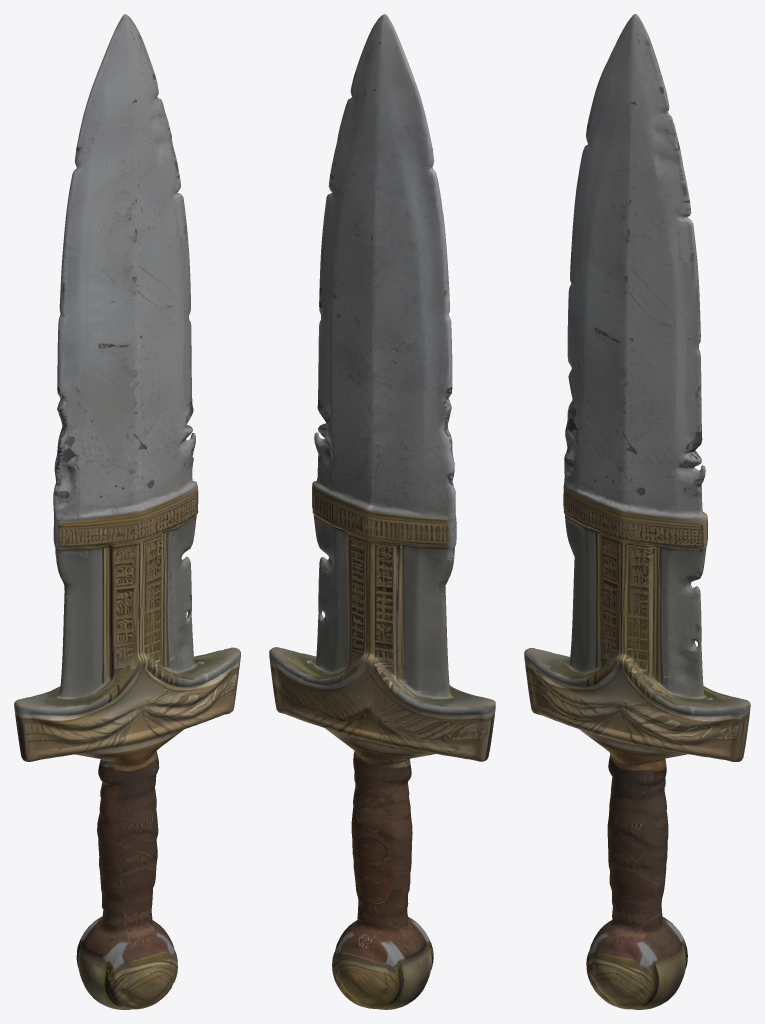
The model's file is gladius.glb.
3 views of the same model, side by side, from view 1: azimuth 30°, elevation 25°; view 2: azimuth 150°, elevation 25°; view 3: azimuth 330°, elevation 25° (orthographic).
Visible parts, largest first — view 1: tripo_node_e9262762-7622-42d6-972a-14d52bba1e16; view 2: tripo_node_e9262762-7622-42d6-972a-14d52bba1e16; view 3: tripo_node_e9262762-7622-42d6-972a-14d52bba1e16.
Part boxes in pixels (box(x1,y1,x2,y2)): tripo_node_e9262762-7622-42d6-972a-14d52bba1e16: box(14, 14, 240, 1009); tripo_node_e9262762-7622-42d6-972a-14d52bba1e16: box(269, 14, 495, 1009); tripo_node_e9262762-7622-42d6-972a-14d52bba1e16: box(524, 14, 750, 1009).
Bounding box in the file's own units: 0.2364 × 0.9996 × 0.0988.
1 material, 1 textured.
